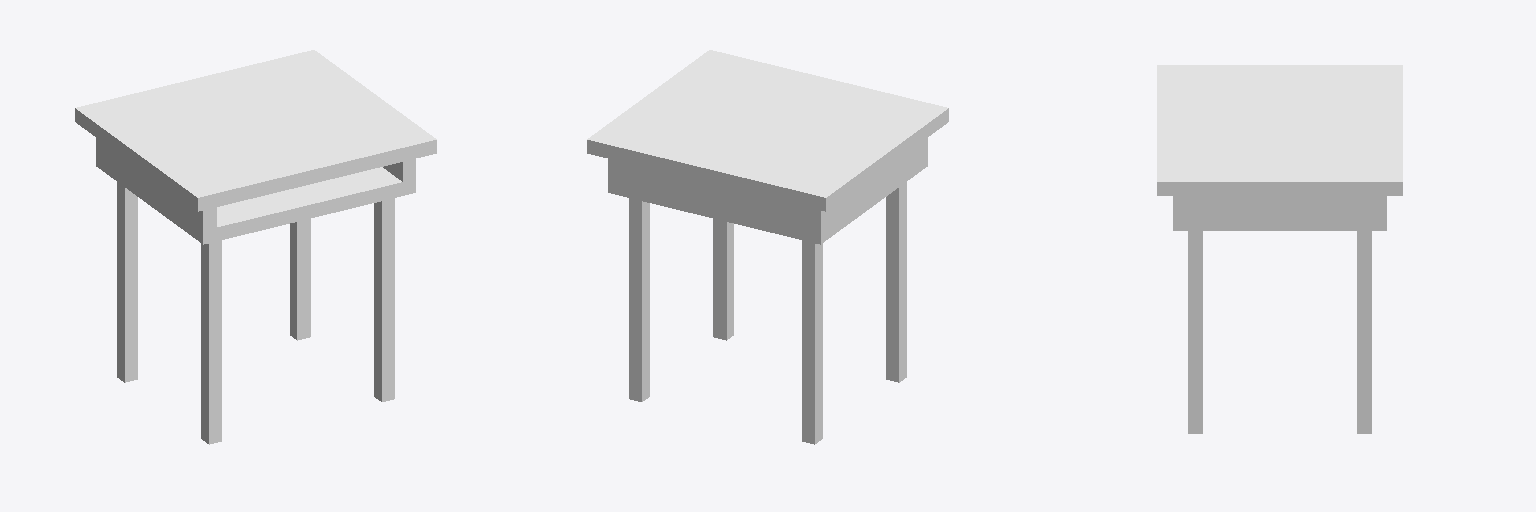
Rendered from pupitre.obj.
3 views of the same model, side by side, from view 1: azimuth 30°, elevation 25°; view 2: azimuth 150°, elevation 25°; view 3: azimuth 270°, elevation 25° (orthographic).
Visible parts, largest first — view 1: object 1; view 2: object 1; view 3: object 1.
Boxes of the visible parts, x1=… form: object 1: x1=75, y1=50, x2=436, y2=444; object 1: x1=587, y1=50, x2=948, y2=444; object 1: x1=1157, y1=65, x2=1402, y2=433.
Bounding box in the file's own units: 1.8 × 1.9 × 1.6.